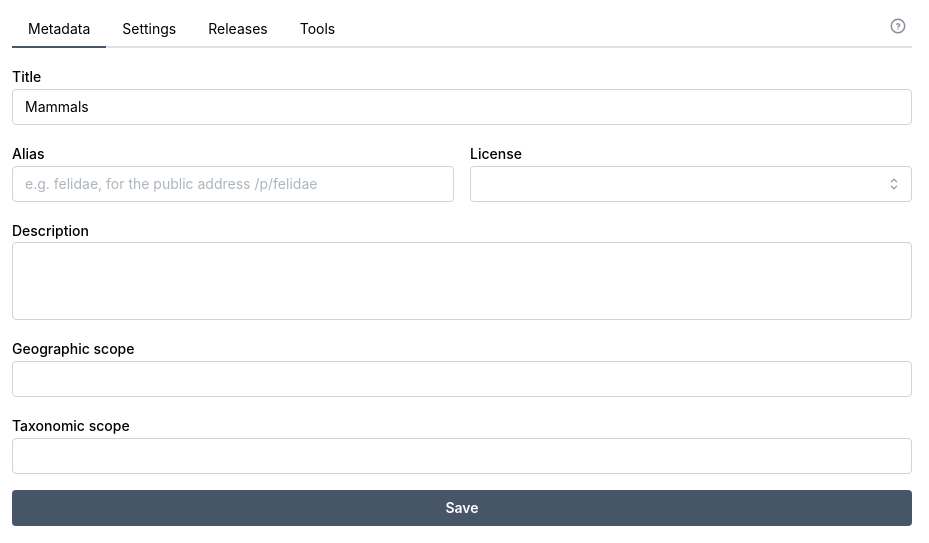
Test case: a project with no matchable identifier scope disables "Match all identifiers" and shows a hint
Expected: the field labelled "Title" holds "Mammals", [12,89,912,125]
Click the tab "Tools": click(317, 30) [284,12,351,48]
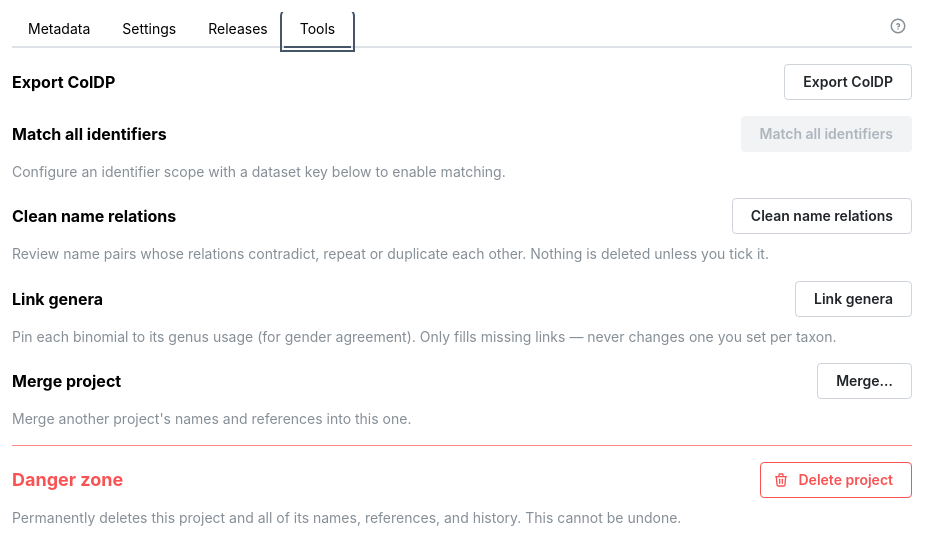
Now the button "Match all identifiers" is disabled, box [740,116,912,152]
Now the text "Configure an identifier scope with a dataset key below to enable matching." is shown, box [12,163,506,180]
